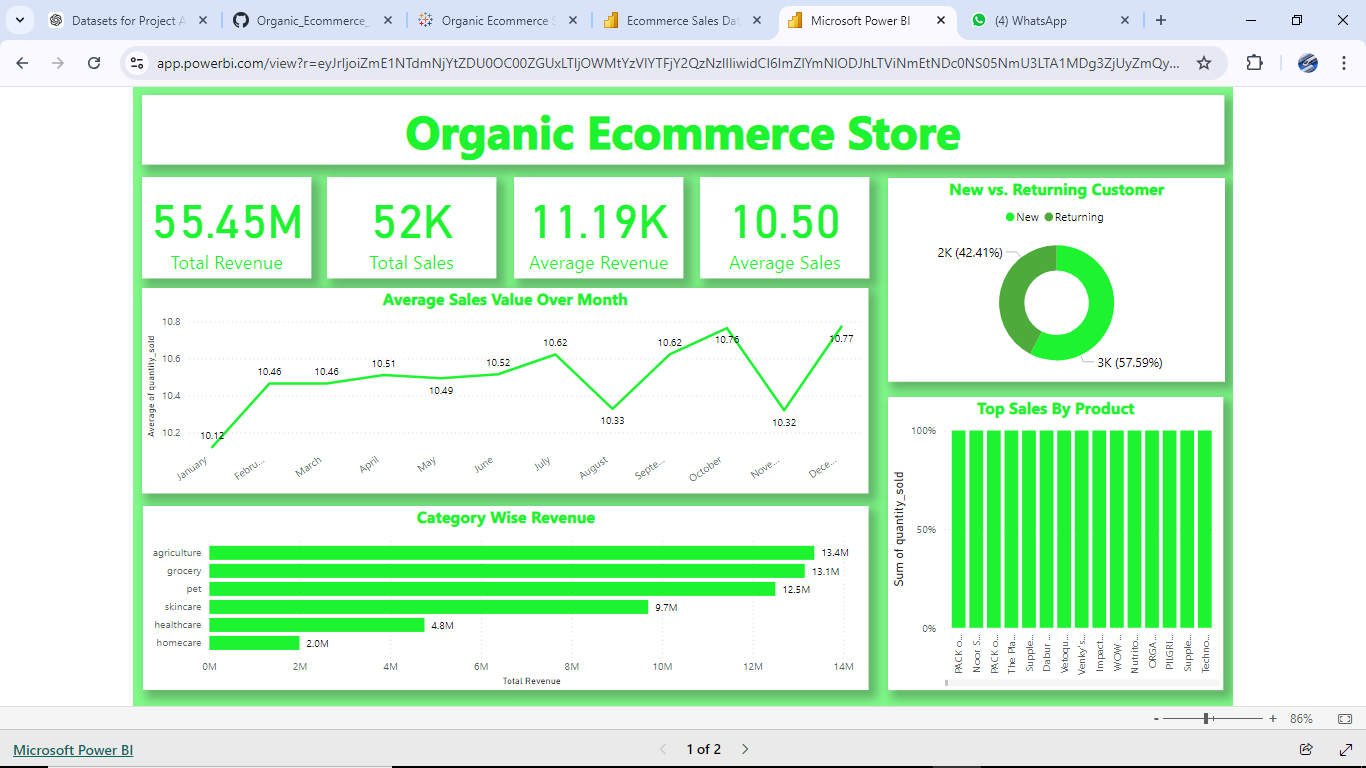

What the dashboard file says about the page in this screenshot:
{"tool":"powerbi","page":{"name":"Page 1","canvas":[1280,720],"ordinal":0},"visuals":[{"type":"textbox","box":[10.5,9.2,1258.7,81.5],"z":0},{"type":"card","fields":{"Values":["Sum(sales_data.revenue)"]},"box":[11,104.6,196.8,118.4],"z":1000},{"type":"card","fields":{"Values":["Sum(sales_data.quantity_sold)"]},"box":[225.7,104.6,196.8,118.4],"z":2000},{"type":"card","fields":{"Values":["Avg(sales_data.quantity_sold)"]},"box":[659.3,104.6,196.8,118.4],"z":3000},{"type":"card","fields":{"Values":["Avg(sales_data.revenue)"]},"box":[443.2,104.6,196.8,118.4],"z":4000},{"type":"donutChart","title":"New vs. Returning Customer","fields":{"Y":["Sum(customer_type.order_count)"],"Category":["customer_type.customer_type"]},"box":[878.1,106,392.3,236.7],"z":5000},{"type":"lineChart","title":"Average Sales Value Over Month","fields":{"Category":["sales_data.date.Variation.Date Hierarchy.Month"],"Y":["Avg(sales_data.quantity_sold)"]},"box":[11,234,845.1,239.5],"z":6000},{"type":"hundredPercentStackedColumnChart","title":"Top Sales By Product","fields":{"Y":["Sum(sales_data.quantity_sold)"],"Category":["product_data.product_name"]},"box":[878.6,360,390,341.4],"z":7000},{"type":"barChart","title":"Category Wise Revenue","fields":{"Category":["sales_data.category"],"Y":["Sum(sales_data.revenue)"]},"box":[11.4,487.1,844.3,214.3],"z":8000}]}

Visuals, with their boxes on the page's 1280x720 design canvas (x1, y1, x2, y2). These are canvas units, not pixel positions in the 1366x768 screenshot, which may show the page scaled, cropped or inside an application window:
textbox: x1=10 y1=9 x2=1269 y2=91
card - Sum(sales_data.revenue): x1=11 y1=105 x2=208 y2=223
card - Sum(sales_data.quantity_sold): x1=226 y1=105 x2=422 y2=223
card - Avg(sales_data.quantity_sold): x1=659 y1=105 x2=856 y2=223
card - Avg(sales_data.revenue): x1=443 y1=105 x2=640 y2=223
"New vs. Returning Customer" donutChart: x1=878 y1=106 x2=1270 y2=343
"Average Sales Value Over Month" lineChart: x1=11 y1=234 x2=856 y2=474
"Top Sales By Product" hundredPercentStackedColumnChart: x1=879 y1=360 x2=1269 y2=701
"Category Wise Revenue" barChart: x1=11 y1=487 x2=856 y2=701
